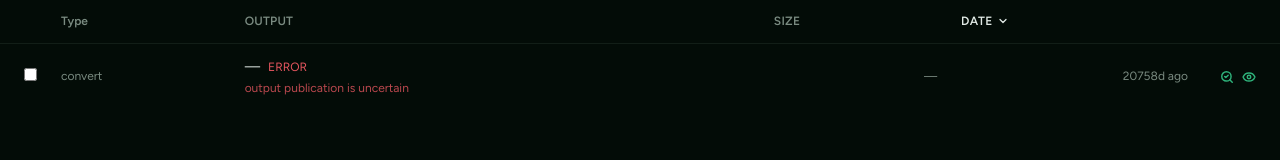
Test: HistoryList verified publication review › keeps a unsupported assessment unresolved with its reason
Click the button named "review uncertain publication" at {"x": 1227, "y": 77}, box [1220, 70, 1234, 84]
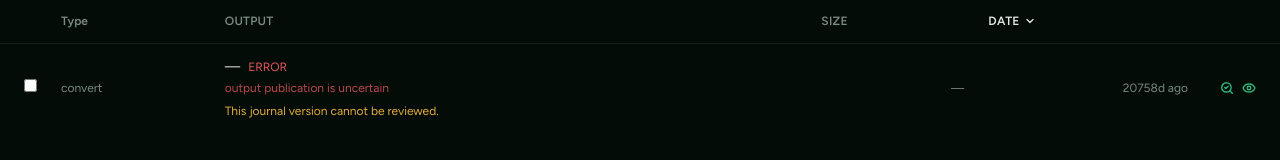
Check: the message reads "This journal version cannot be reviewed.", box [225, 104, 439, 118]
